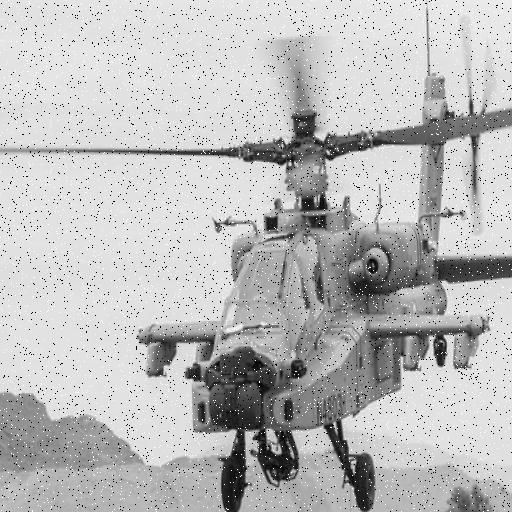helicopter: (37, 37, 512, 512)
